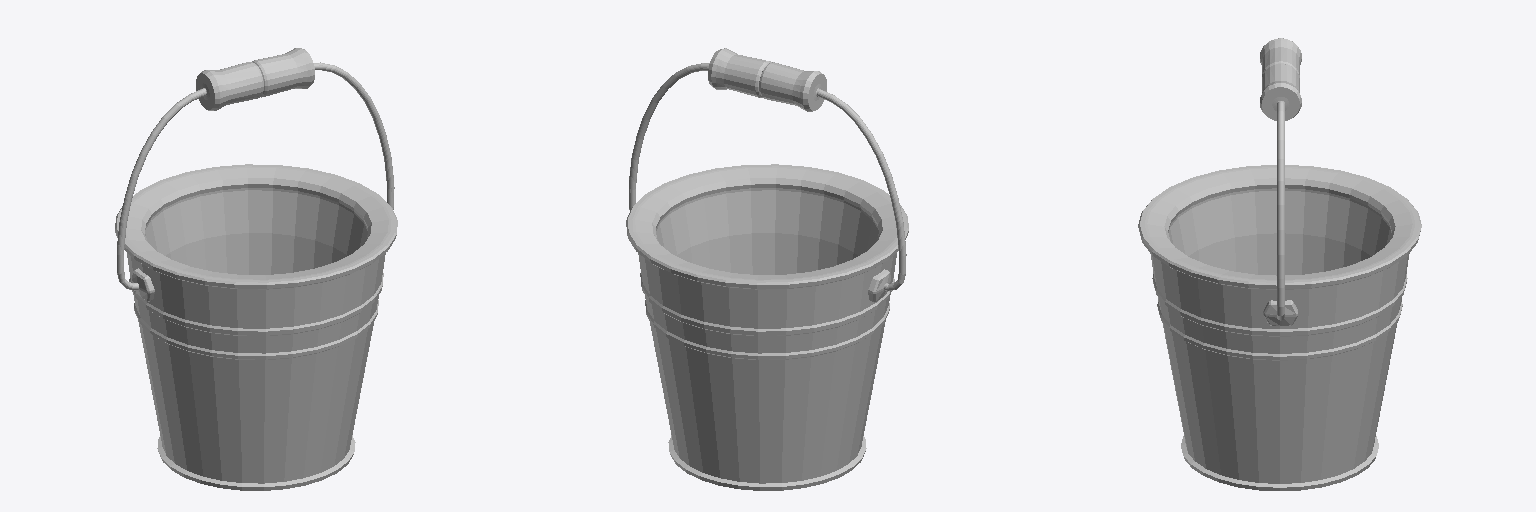
File: bucket.obj
3 views of the same model, side by side, from view 1: azimuth 30°, elevation 25°; view 2: azimuth 150°, elevation 25°; view 3: azimuth 270°, elevation 25° (orthographic).
Visible parts, largest first — view 1: initialShadingGroup bucket_whole bucket, initialShadingGroup handle bucket_whole; view 2: initialShadingGroup bucket_whole bucket, initialShadingGroup handle bucket_whole; view 3: initialShadingGroup bucket_whole bucket, initialShadingGroup handle bucket_whole, initialShadingGroup bucket_whole connect_right.
Part boxes in pixels (left/top/right/bottom): initialShadingGroup bucket_whole bucket: left=115, top=164, right=397, bottom=490; initialShadingGroup handle bucket_whole: left=117, top=48, right=394, bottom=290; initialShadingGroup bucket_whole bucket: left=626, top=164, right=908, bottom=490; initialShadingGroup handle bucket_whole: left=629, top=48, right=906, bottom=290; initialShadingGroup bucket_whole bucket: left=1138, top=165, right=1421, bottom=490; initialShadingGroup handle bucket_whole: left=1260, top=38, right=1301, bottom=320; initialShadingGroup bucket_whole connect_right: left=1263, top=300, right=1297, bottom=325.
Bounding box in the file's own units: 1.14 × 1.54 × 1.02.